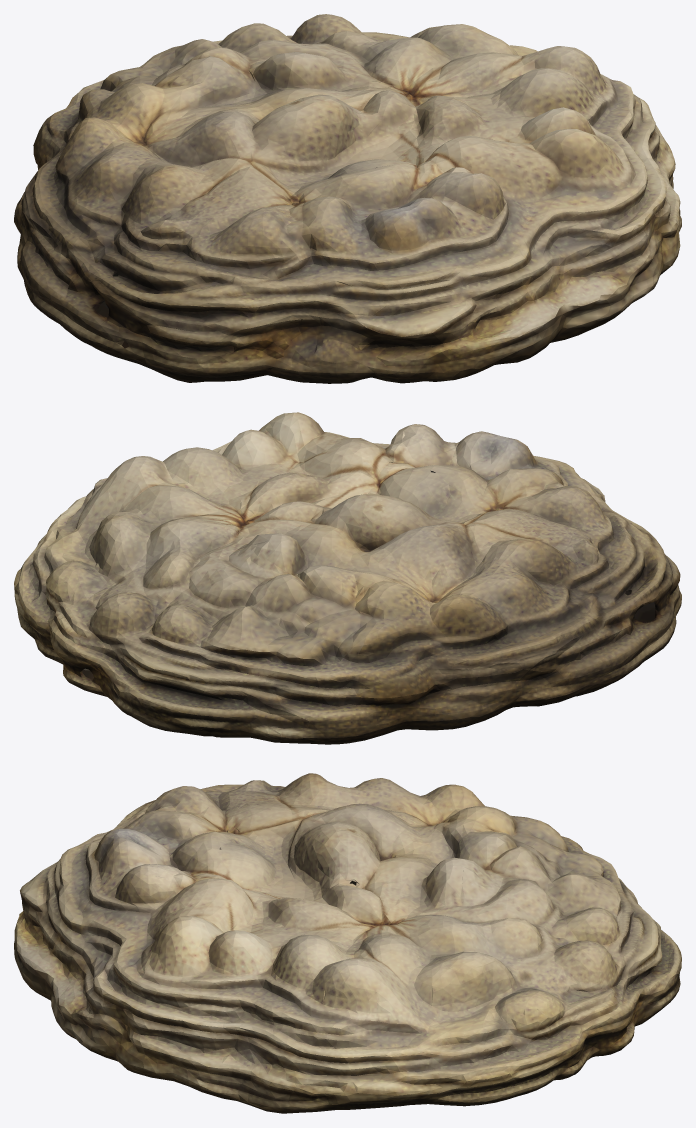
3 renders of one model, top to bottom at view 1: azimuth 30°, elevation 25°; view 2: azimuth 150°, elevation 25°; view 3: azimuth 270°, elevation 25°, orthographic. The views are drawn at different scales.
Visible parts, largest first — view 1: world; view 2: world; view 3: world.
Boxes of the visible parts, x1,y1,x2,y2 form: world: (14,14,681,383); world: (14,412,681,744); world: (14,773,681,1113).
Size of the model in its own units: 0.35 by 0.0832 by 0.3479.
Materials: 1 (1 with a texture image).
